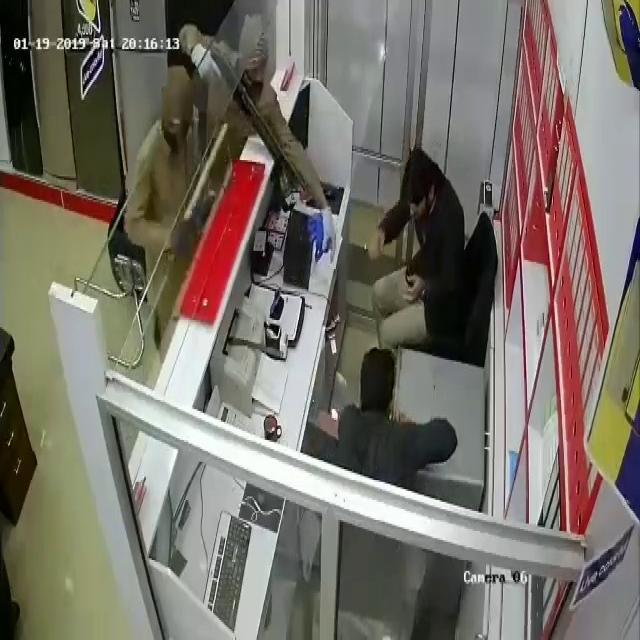weapon: (205, 38, 308, 200), (174, 120, 228, 246)
